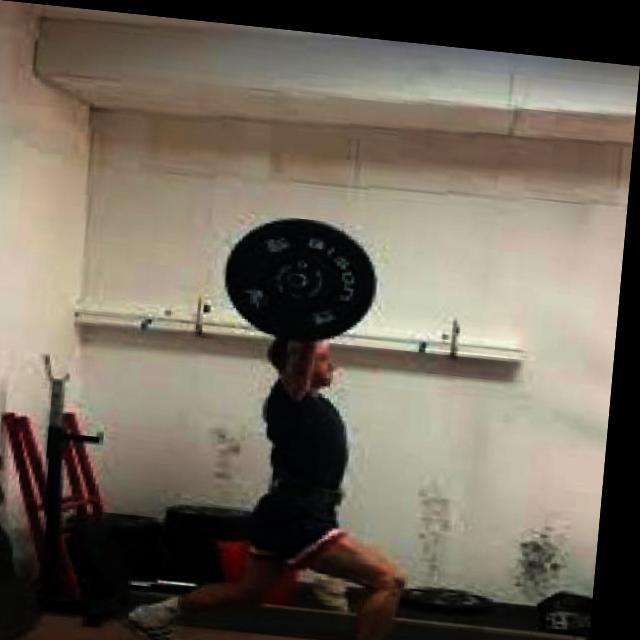barbell: (220, 202, 393, 348)
